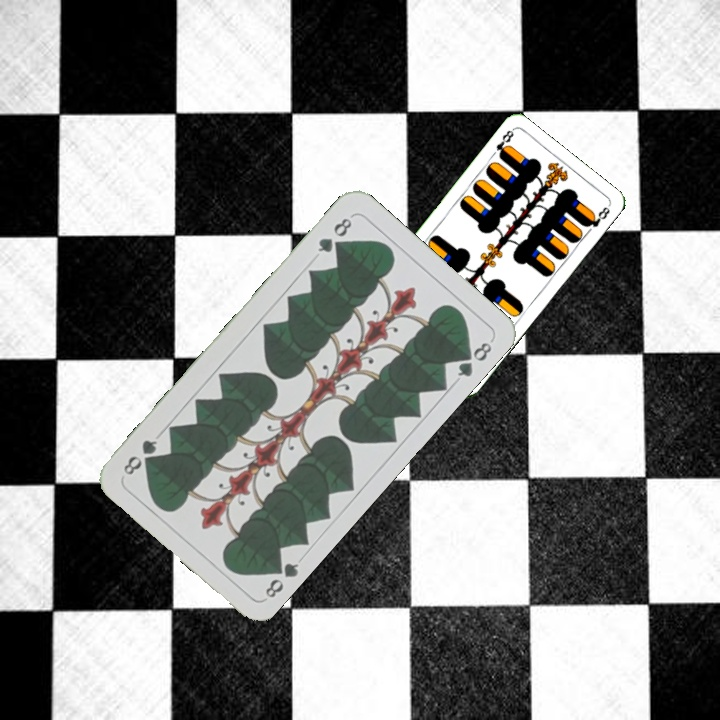E8: (492, 126, 517, 161)
G8: (260, 555, 302, 602), (313, 213, 355, 256)
